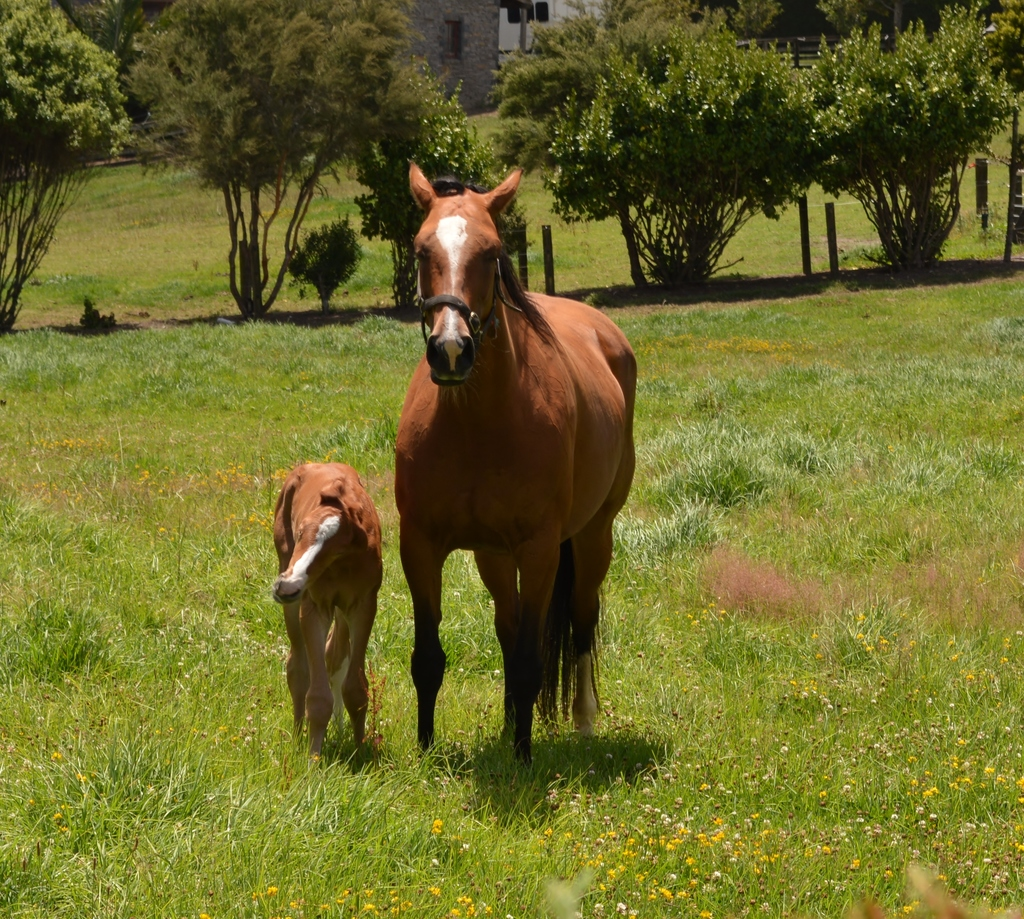horse: (271, 461, 382, 766)
